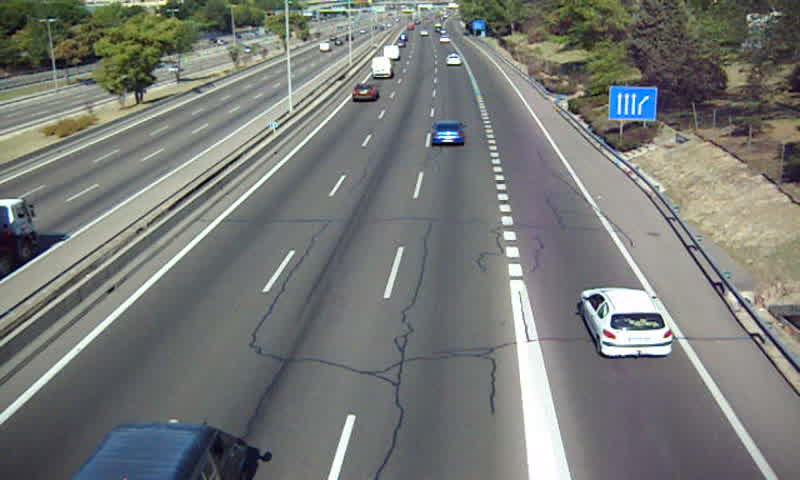car: (581, 288, 674, 360), (429, 118, 468, 146), (350, 83, 378, 102)
van: (370, 56, 394, 78)
